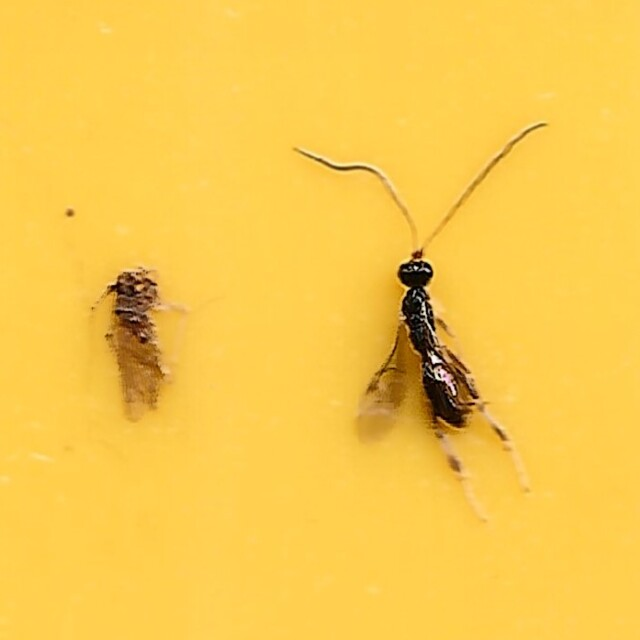Hymenoptera: (296, 116, 548, 524)
Nematocera: (92, 269, 189, 424)
